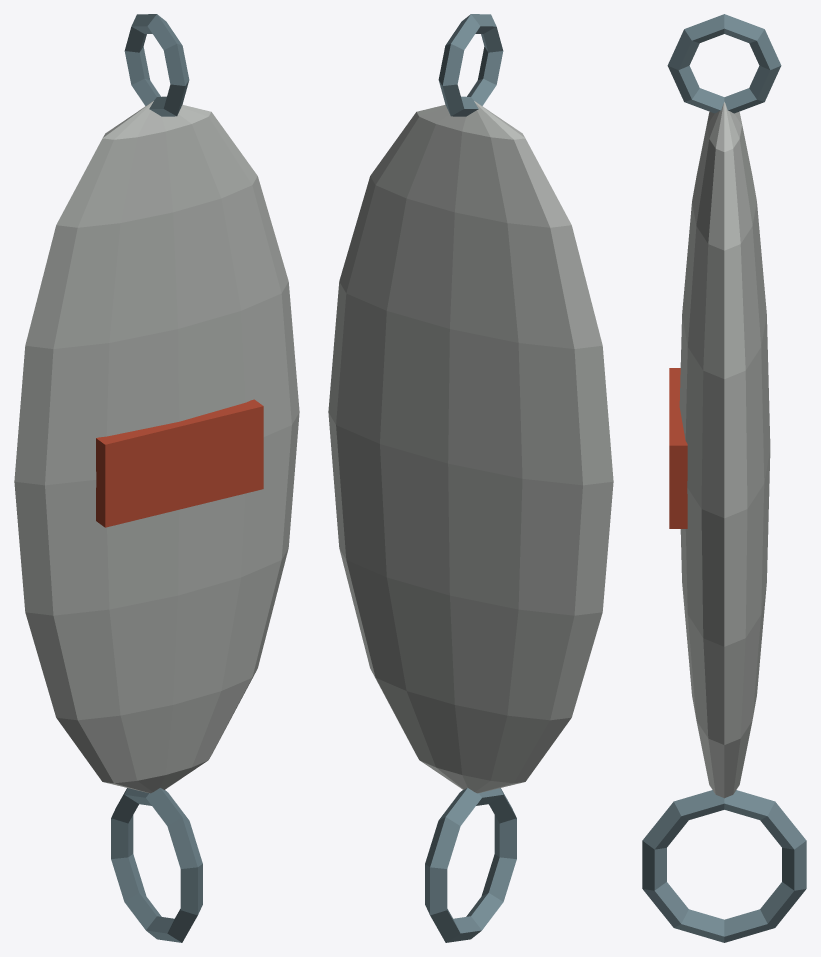
The model's file is bait-lure.glb.
3 renders of one model, left to right at view 1: azimuth 30°, elevation 25°; view 2: azimuth 150°, elevation 25°; view 3: azimuth 270°, elevation 25°, orthographic.
Visible parts, largest first — view 1: bait-lure; view 2: bait-lure; view 3: bait-lure.
Boxes of the visible parts, x1,y1,x2,y2 form: bait-lure: (14,14,299,942); bait-lure: (328,14,613,942); bait-lure: (642,14,806,942).
Size of the model in its own units: 0.36 by 1.12 by 0.1787.
